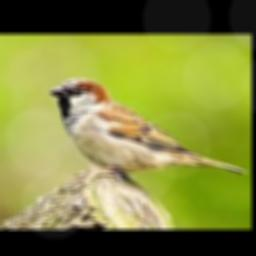Sparrow: (48, 77, 247, 183)
